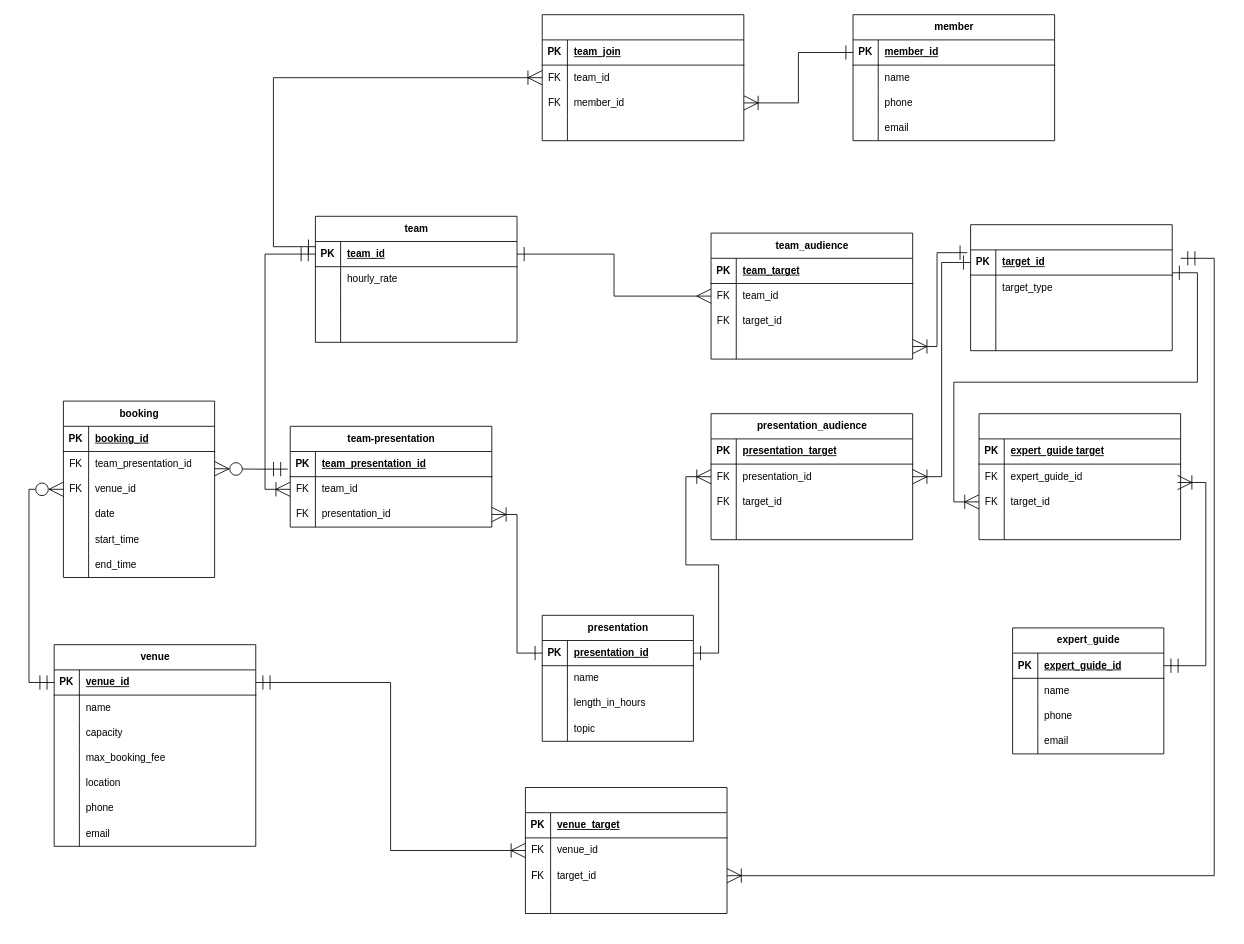
The diagram is 1244 pixels wide and 944 high, and some of its shapes have lost their labels. The box of each missing label's shape, as (x1, y1, x2, y2) in pixels:
expert_guide_audience: (978, 413, 1181, 540)
target_audience: (970, 224, 1172, 351)
team_has_member: (541, 14, 744, 141)
venue_audience: (525, 787, 727, 914)
